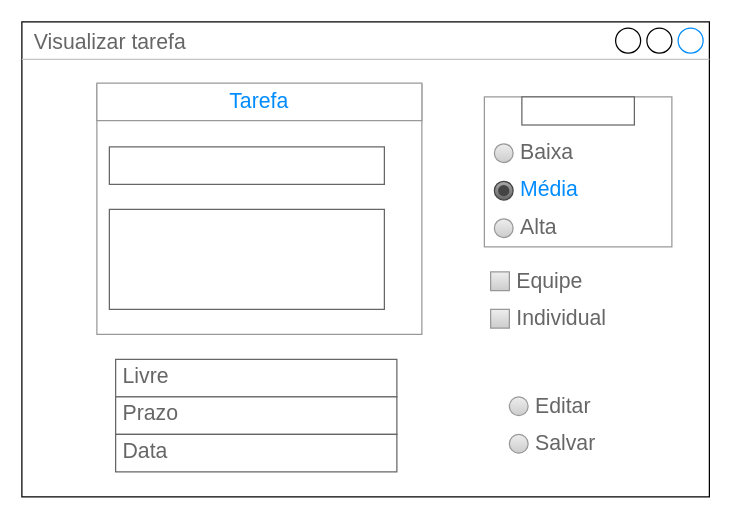
Some shapes in this 731 by 519 pixel diagram are drawn without their labels. Each missing label, with the centre of its shape:
Descrição: point 246,258
Prioridade: point 577,110
Status: point 246,165
